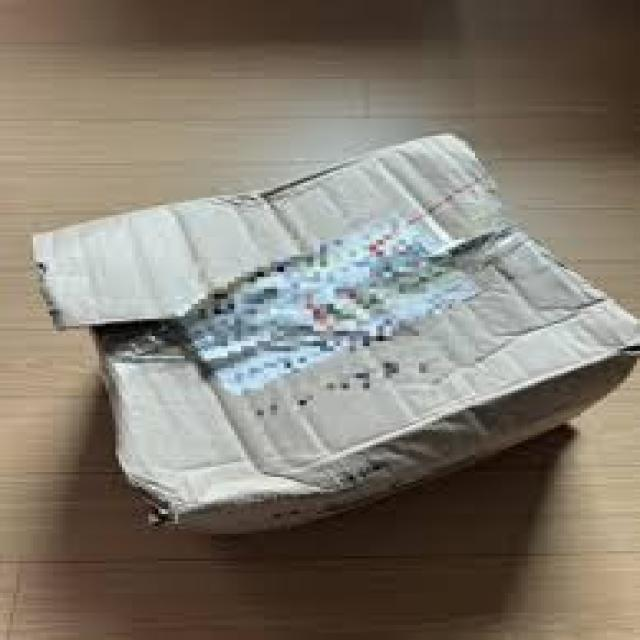box: (30, 134, 640, 541)
crushed: (232, 438, 379, 520)
tear: (88, 312, 186, 361)
